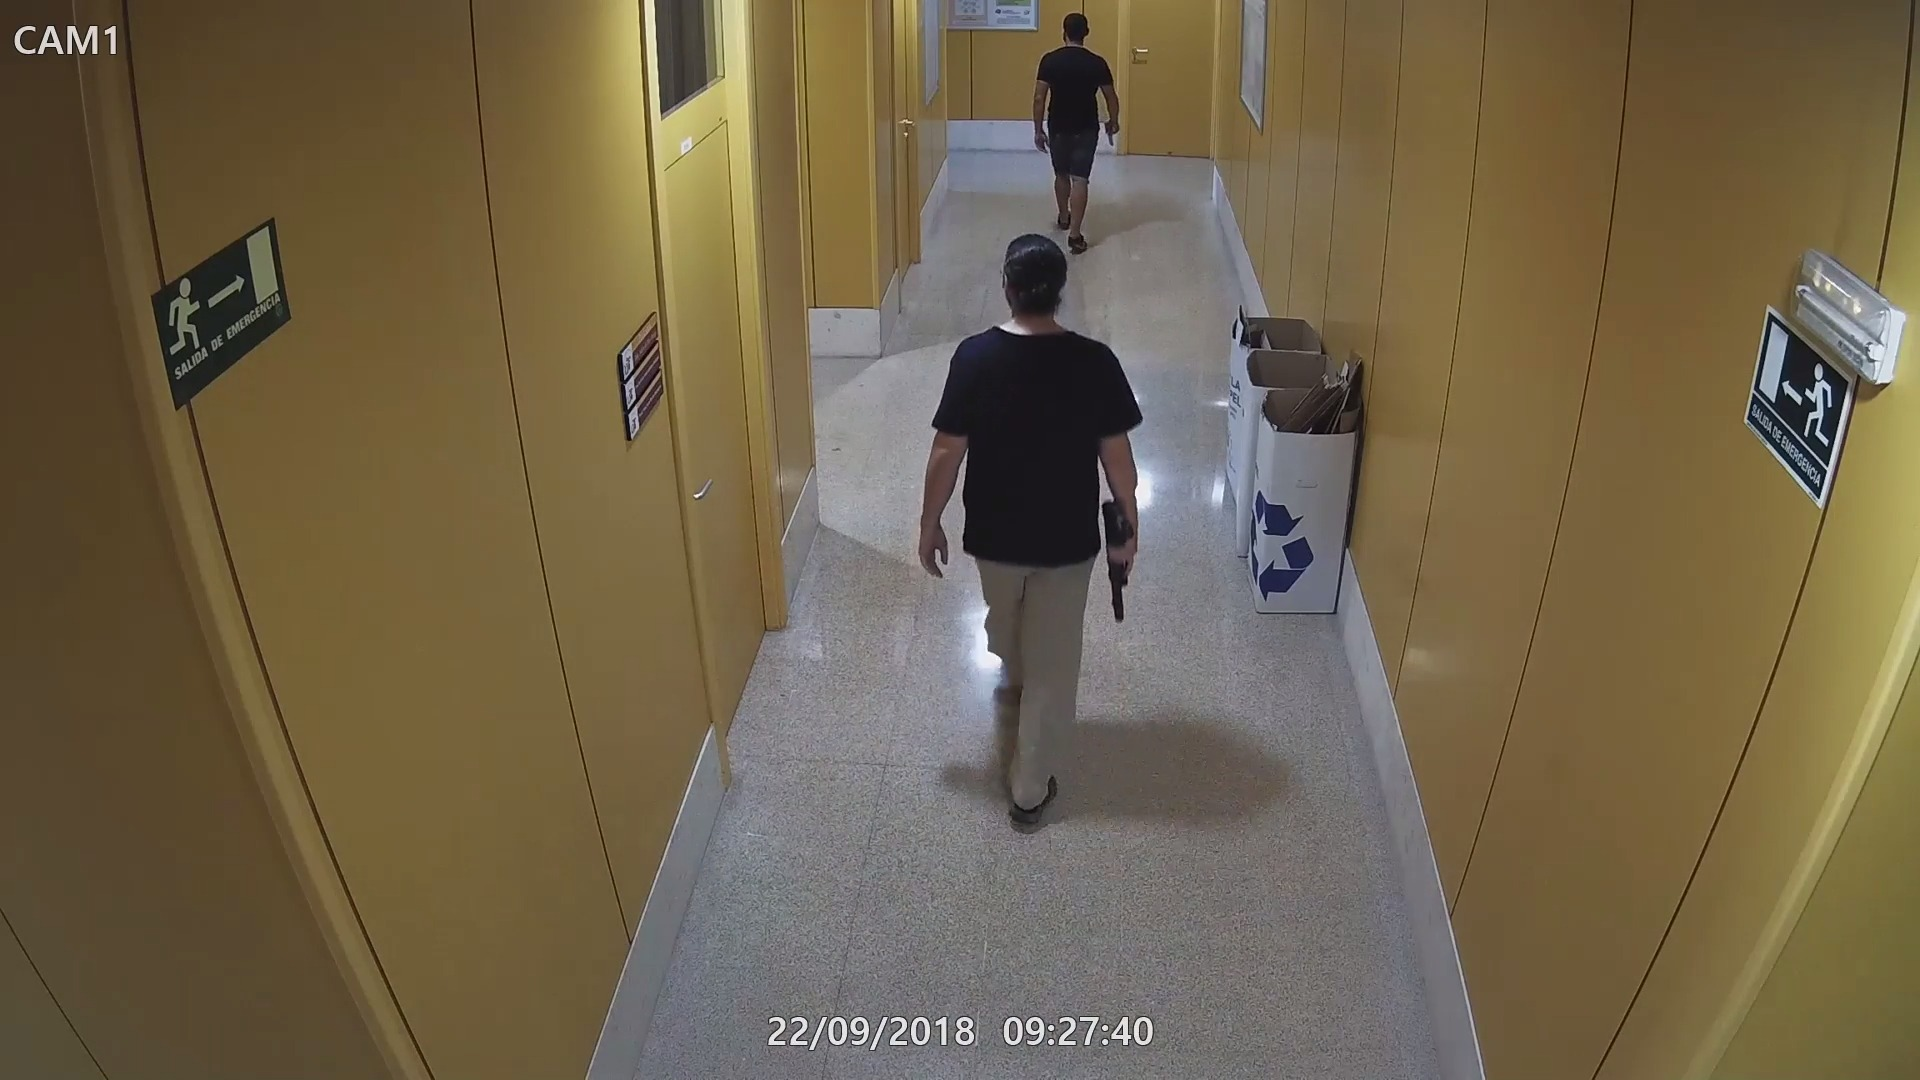Handgun: (1101, 117, 1127, 148)
Short_rifle: (1098, 502, 1137, 626)
